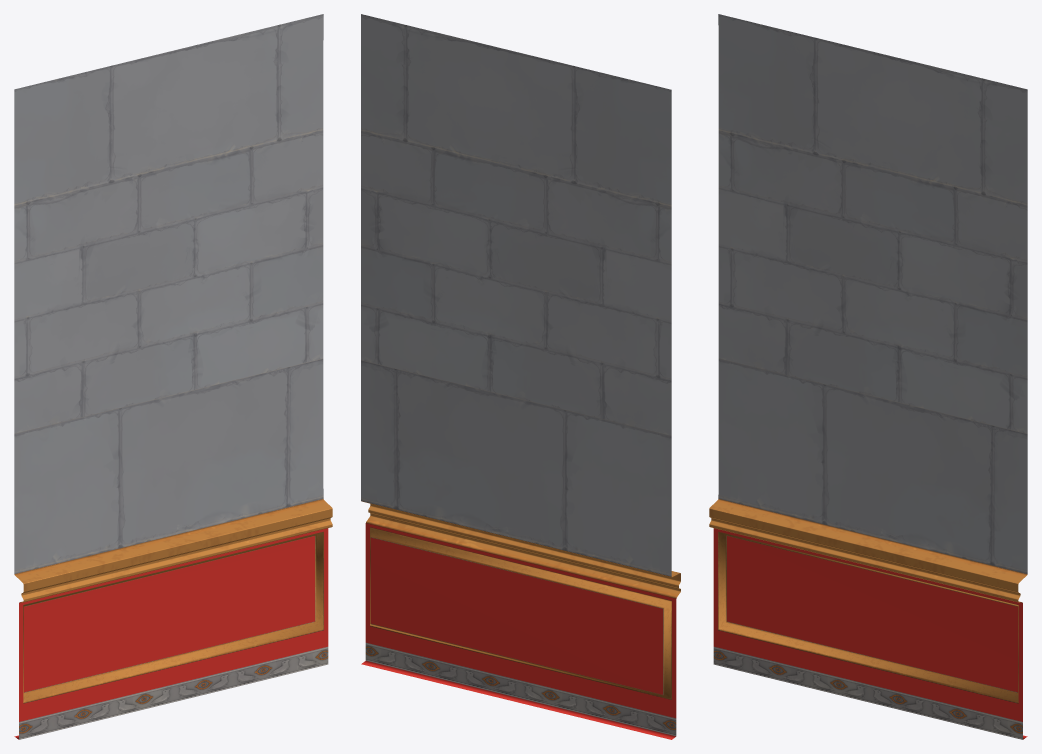
The model's file is SM_Wall4x2_02.fbx.
The picture shows the model from 3 angles, left to right: view 1: azimuth 30°, elevation 25°; view 2: azimuth 150°, elevation 25°; view 3: azimuth 330°, elevation 25°; orthographic projection.
Visible parts, largest first — view 1: SM_Wall4x2_02; view 2: SM_Wall4x2_02; view 3: SM_Wall4x2_02.
Part boxes in pixels (box(x1,y1,x2,y2)): SM_Wall4x2_02: box(14, 14, 332, 739); SM_Wall4x2_02: box(361, 14, 680, 739); SM_Wall4x2_02: box(709, 14, 1027, 739).
Bounding box in the file's own units: 2 × 4 × 0.1038.
